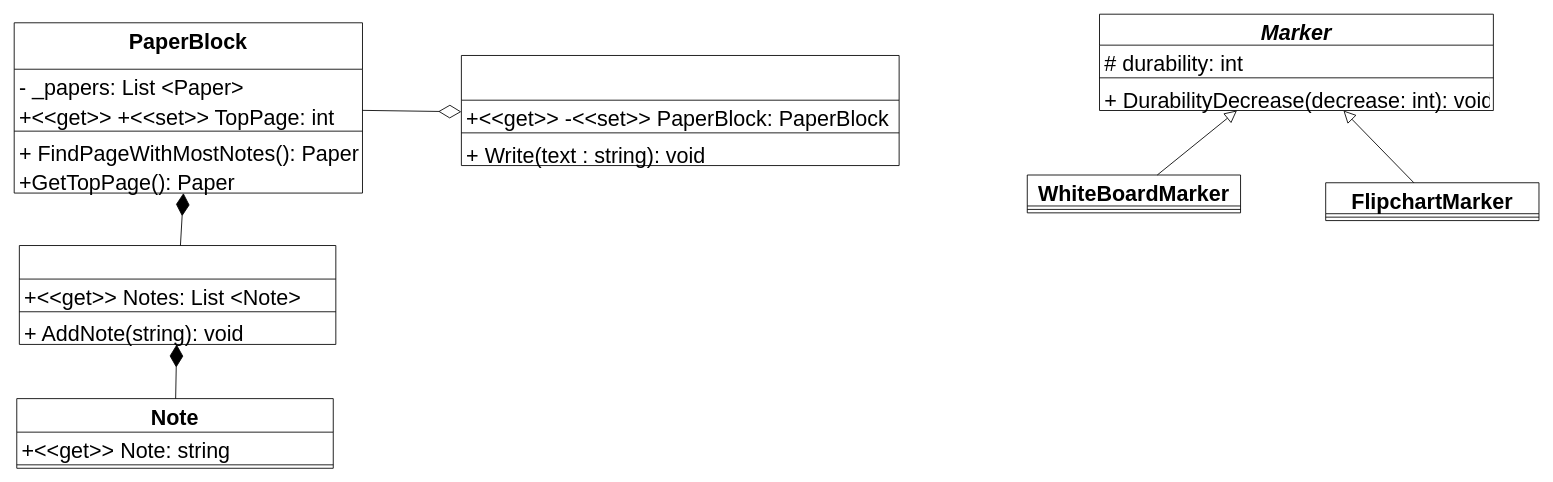
The diagram is 1553 pixels wide and 482 high, and some of its shapes have lost their labels. Each missing label, with the box of its shape:
Flipchart: (461, 55, 899, 166)
Paper: (18, 245, 336, 344)
